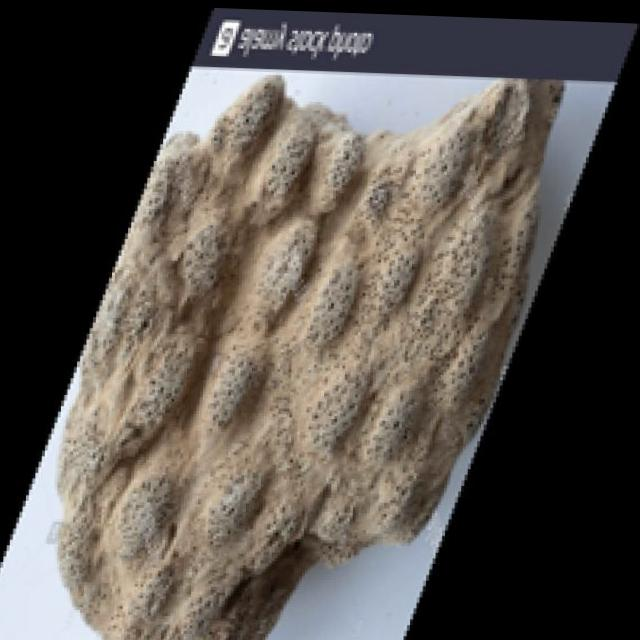Dead Coral: (124, 83, 555, 375), (80, 377, 379, 630)
